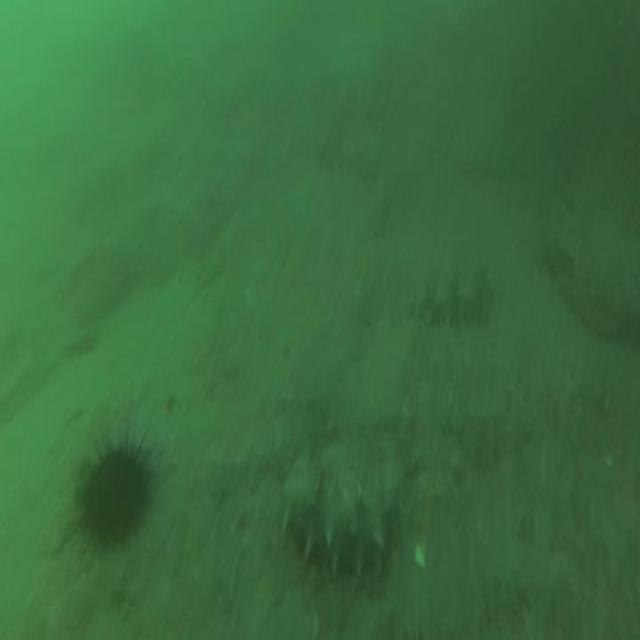echinus: (81, 450, 148, 546)
holothurian: (284, 471, 388, 580), (410, 275, 485, 330)
